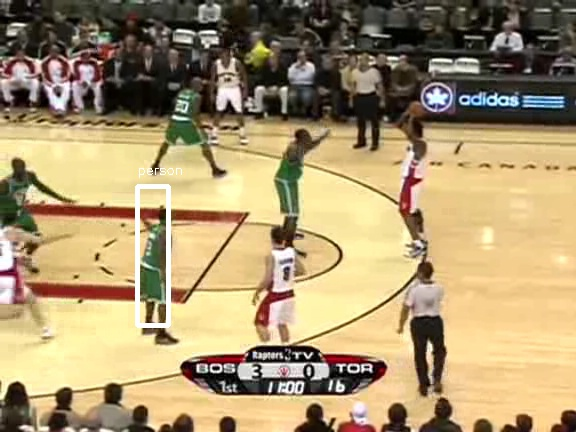person: (141, 225, 175, 306), (140, 225, 174, 306), (142, 225, 176, 306), (141, 224, 175, 305), (141, 226, 175, 307)
target_negative: (333, 351, 551, 381), (41, 85, 525, 97), (258, 159, 388, 181), (185, 356, 224, 403), (276, 90, 277, 286)
